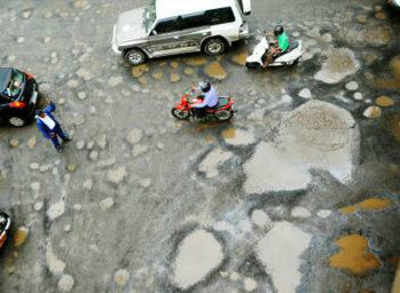pothole: (236, 87, 367, 200), (151, 217, 241, 291), (254, 219, 326, 292), (322, 219, 384, 290), (338, 181, 389, 219), (39, 253, 80, 292), (37, 196, 68, 224), (68, 58, 97, 84), (118, 118, 144, 140), (11, 6, 42, 23), (72, 88, 93, 105)
